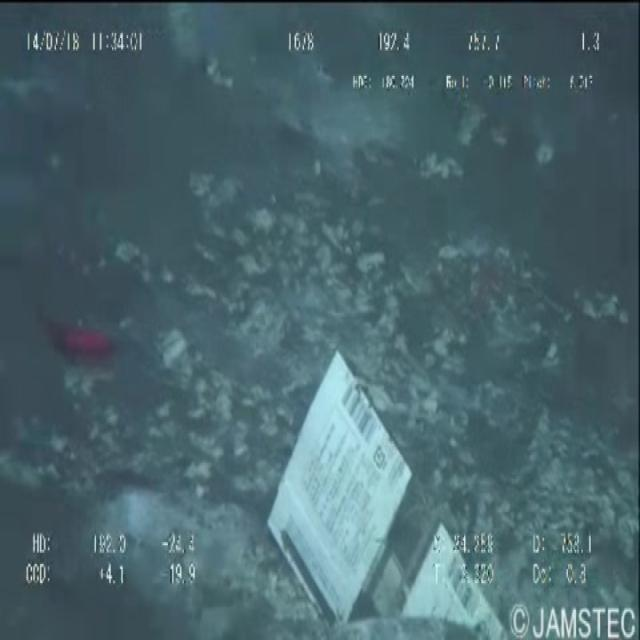Glass: (210, 311, 506, 640)
Litter: (38, 291, 149, 374)
